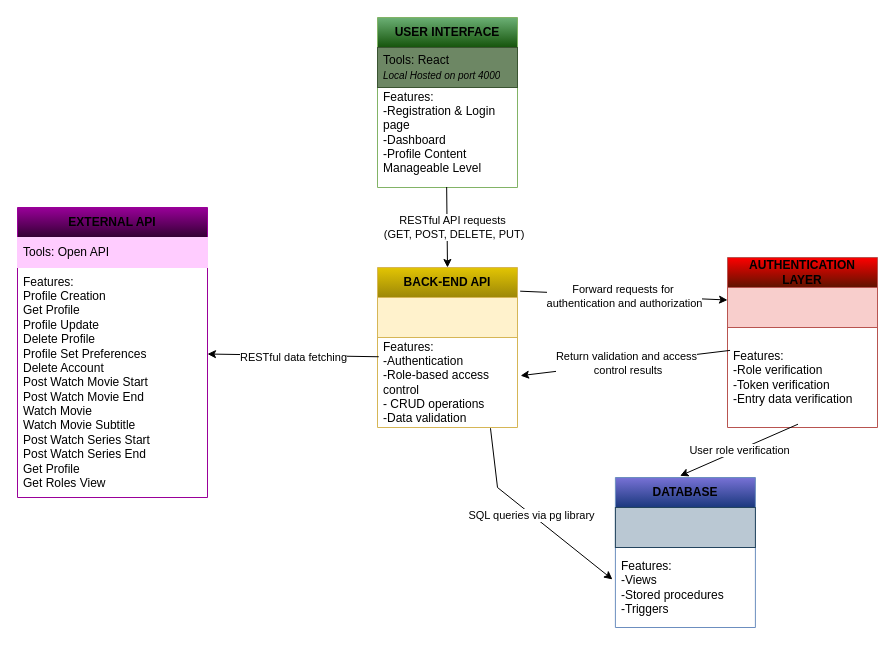
The diagram is 895 pixels wide and 645 high, and some of its shapes have lost their labels. The centre of each missing label's shape, as x and y in pixels:
Tools: Express.js Local Hosted on port 3000: the point at 447,317
Tools: JSON and XML Web Tokens: the point at 802,307
Tools: PostgreSQL Local Hosted on port 5432: the point at 684,527
